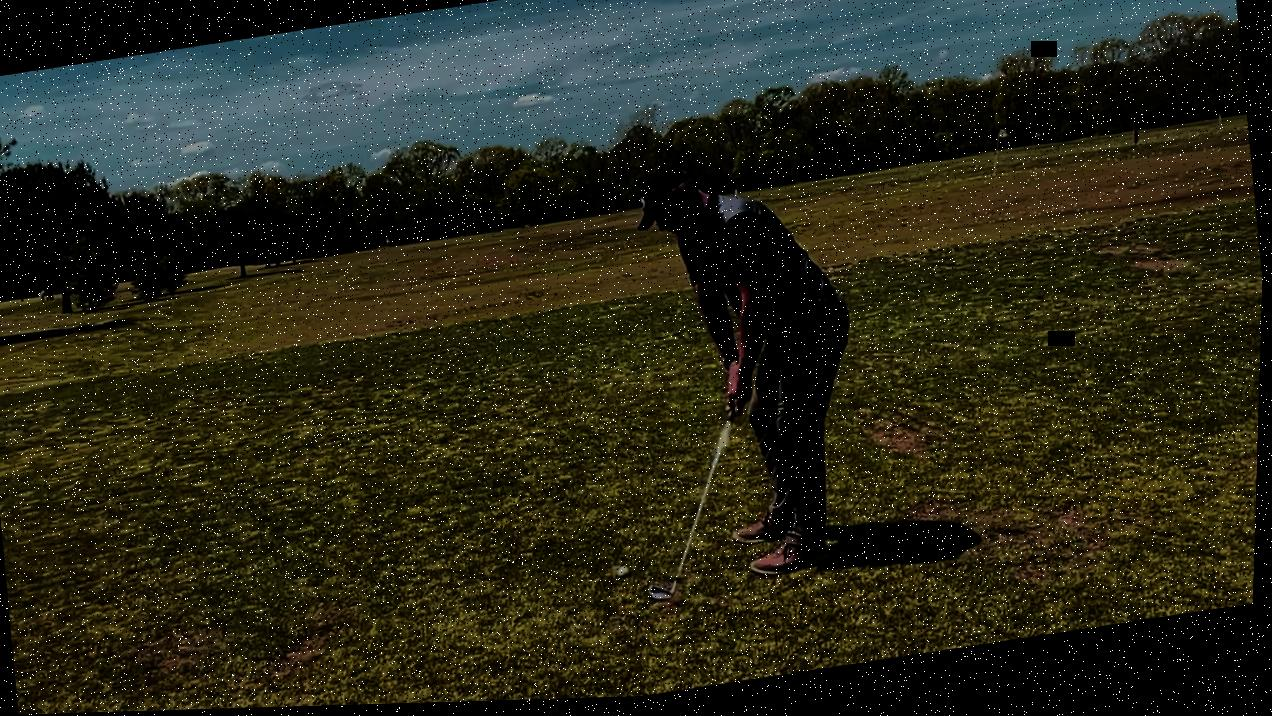ClubHead: (639, 577, 690, 614)
GolfBall: (618, 565, 637, 586)
